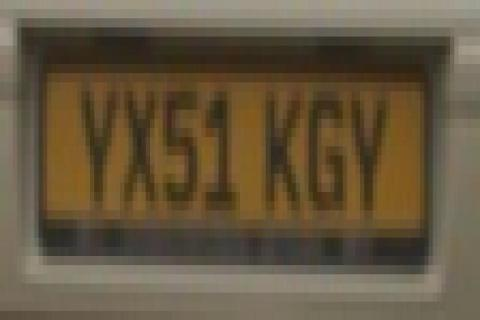LicensePlate: (31, 47, 445, 299)
